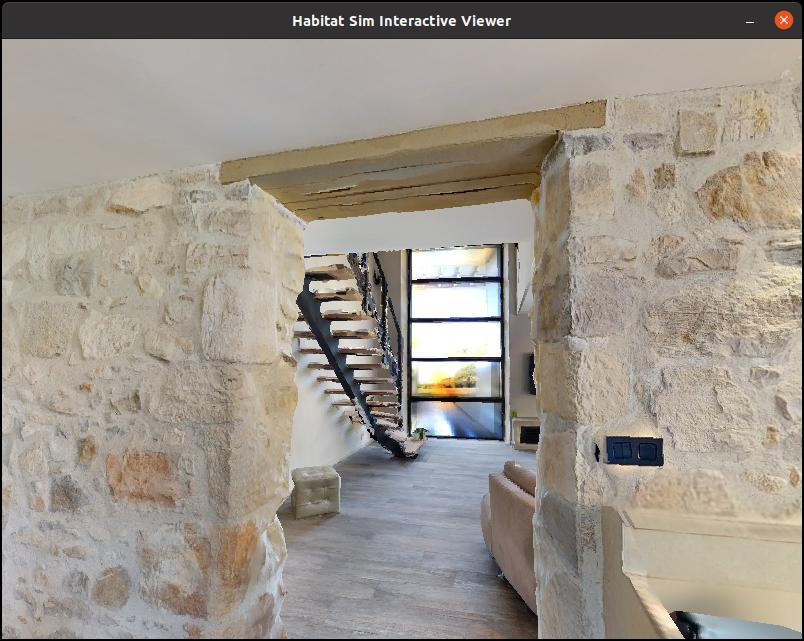door-frame: (199, 97, 645, 641)
stairs: (281, 251, 430, 466)
